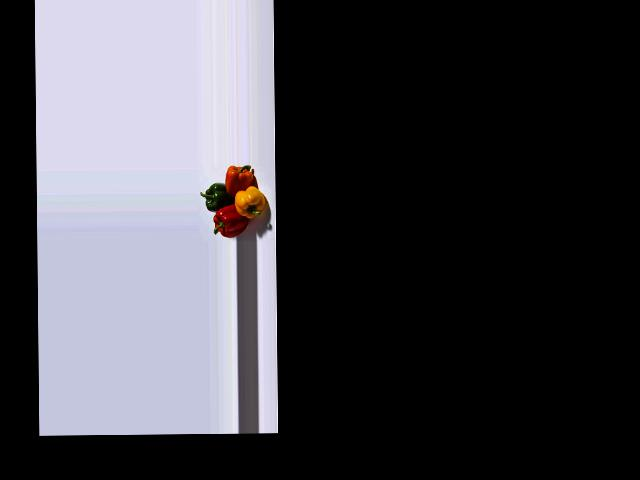bell_pepper: (209, 204, 248, 239)
